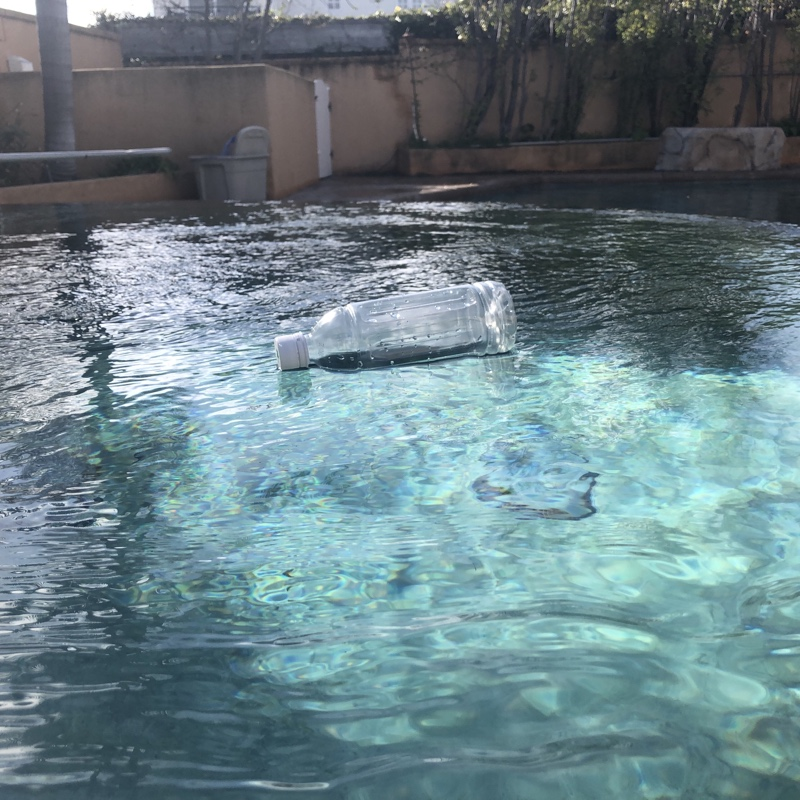Plastic Bottle: (270, 277, 519, 375)
